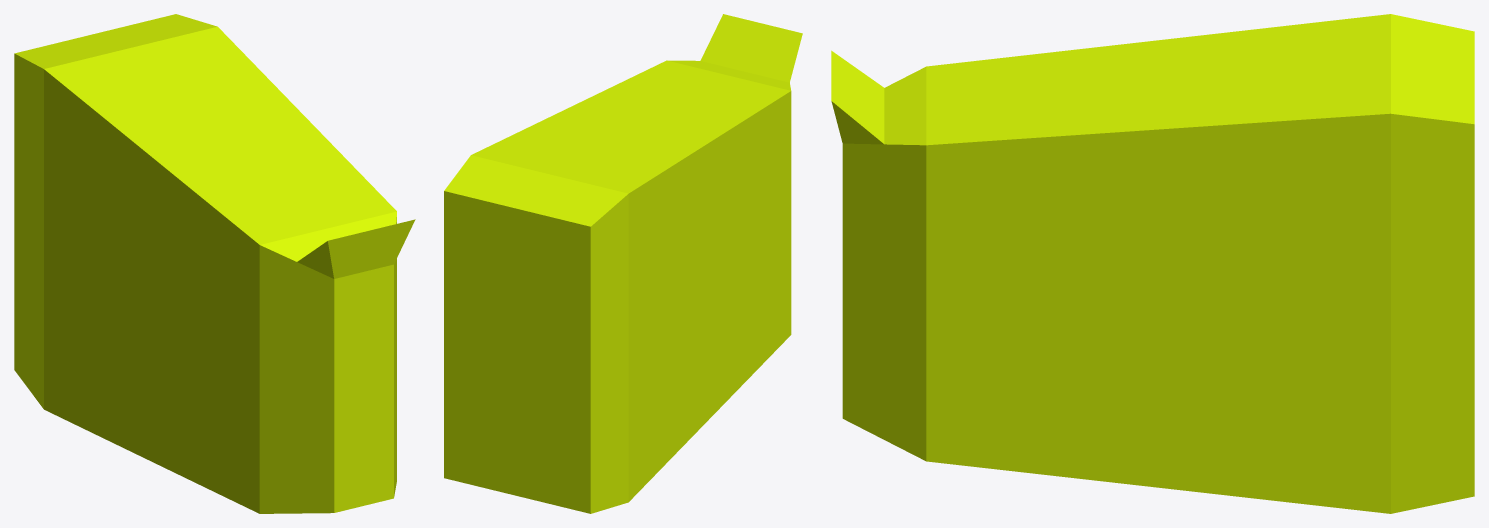
The model's file is BakingMixBag.obj.
The picture shows the model from 3 angles, left to right: view 1: azimuth 30°, elevation 25°; view 2: azimuth 150°, elevation 25°; view 3: azimuth 270°, elevation 25°; orthographic projection. The views are drawn at different scales.
Visible parts, largest first — view 1: bag.000_bag.001; view 2: bag.000_bag.001; view 3: bag.000_bag.001.
Part boxes in pixels (<box>): bag.000_bag.001: <box>14,14,415,513</box>; bag.000_bag.001: <box>444,14,802,513</box>; bag.000_bag.001: <box>831,14,1474,513</box>.
Size of the model in its own units: 0.1101 by 0.2059 by 0.2999.
